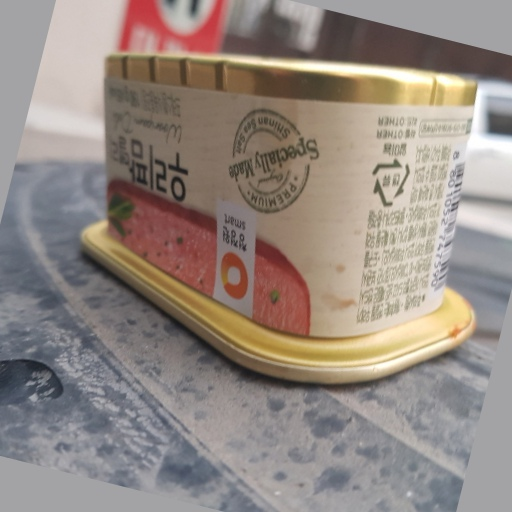Metal_2: (81, 50, 481, 381)
